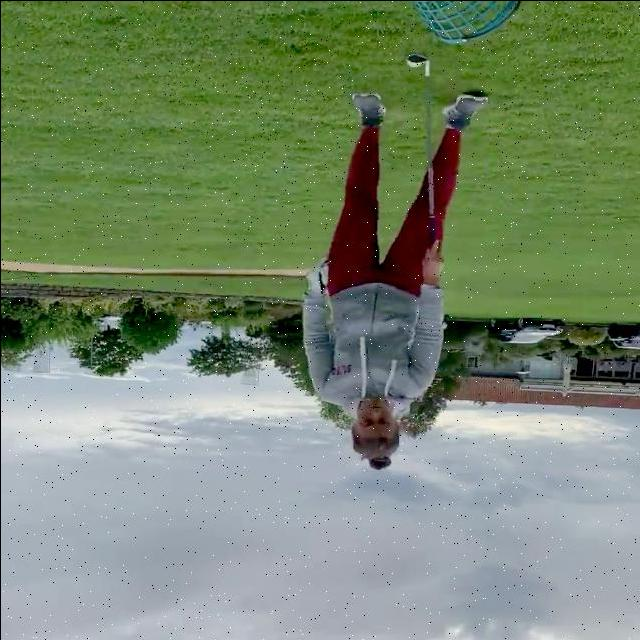ClubHandle: (401, 50, 439, 249)
ClubHead: (404, 52, 428, 70)
